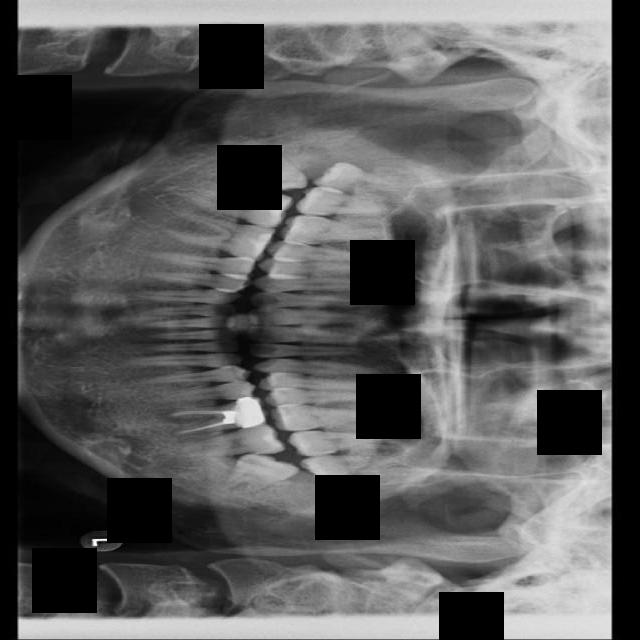3M ESPE Implant: (310, 157, 421, 208)
52: (235, 395, 267, 430)
73: (164, 400, 242, 439), (44, 617, 54, 624)
BioHorizons Implant: (287, 432, 401, 457)
BioLife Implant: (299, 448, 414, 483)
Biomet 3i Implant: (207, 439, 302, 504)
Blue Sky Bio Implant: (170, 421, 285, 471)
Caries: (295, 185, 406, 220)
Implant: (182, 187, 293, 230)
Keystone Dental Implant: (241, 150, 306, 195)
